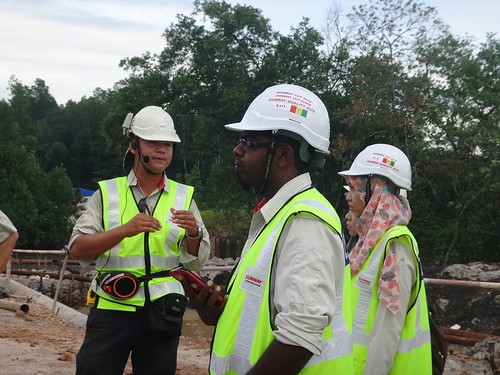Helmet: (217, 79, 333, 195), (336, 141, 423, 230), (124, 103, 185, 185)
Reflective vest: (212, 188, 352, 375), (90, 175, 197, 311), (350, 220, 434, 375)
